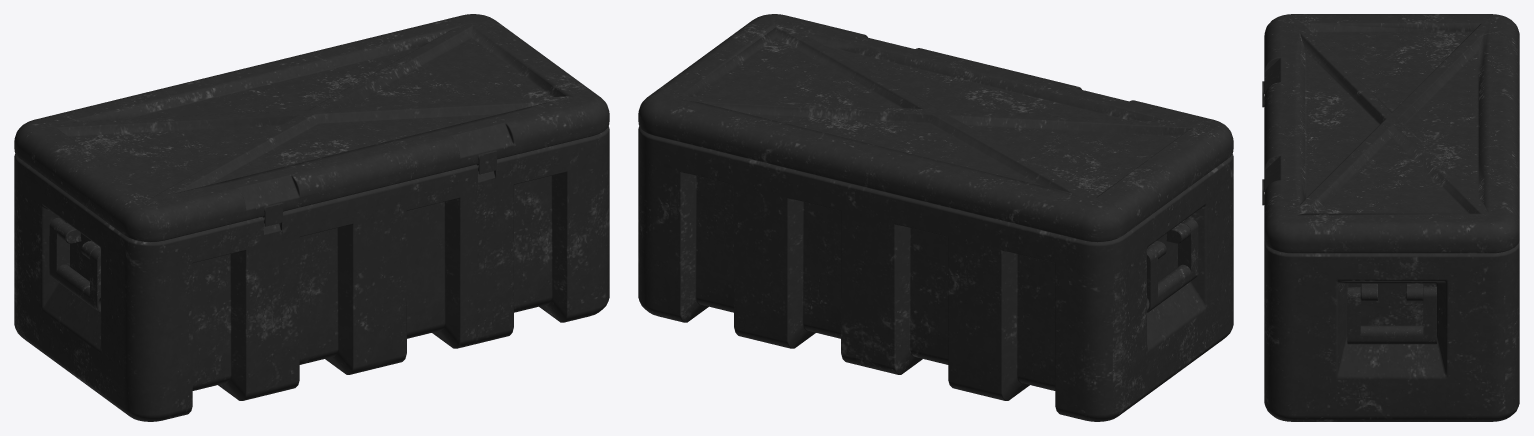
The picture shows the model from 3 angles, left to right: view 1: azimuth 30°, elevation 25°; view 2: azimuth 150°, elevation 25°; view 3: azimuth 270°, elevation 25°; orthographic projection. The views are drawn at different scales.
Visible parts, largest first — view 1: uv:textureEditorIsolateSelectSetpolySurface1pCube1, uv:textureEditorIsolateSelectSetpCube1polySurface2, uv:textureEditorIsolateSelectSetpCube6; view 2: uv:textureEditorIsolateSelectSetpolySurface1pCube1, uv:textureEditorIsolateSelectSetpCube1polySurface2, uv:textureEditorIsolateSelectSetpCube6; view 3: uv:textureEditorIsolateSelectSetpCube1polySurface2, uv:textureEditorIsolateSelectSetpolySurface1pCube1, uv:textureEditorIsolateSelectSetpCube6.
Part boxes in pixels (x1,y1,x2,y2): uv:textureEditorIsolateSelectSetpolySurface1pCube1: [14, 126, 609, 421]; uv:textureEditorIsolateSelectSetpCube1polySurface2: [14, 14, 609, 242]; uv:textureEditorIsolateSelectSetpCube6: [49, 217, 100, 312]; uv:textureEditorIsolateSelectSetpolySurface1pCube1: [638, 126, 1233, 421]; uv:textureEditorIsolateSelectSetpCube1polySurface2: [638, 14, 1233, 242]; uv:textureEditorIsolateSelectSetpCube6: [1147, 218, 1198, 312]; uv:textureEditorIsolateSelectSetpCube1polySurface2: [1262, 14, 1519, 253]; uv:textureEditorIsolateSelectSetpolySurface1pCube1: [1264, 238, 1519, 421]; uv:textureEditorIsolateSelectSetpCube6: [1347, 283, 1436, 344].
Bounding box in the file's own units: 3.82 × 1.61 × 1.89.
1 material, 1 textured.
